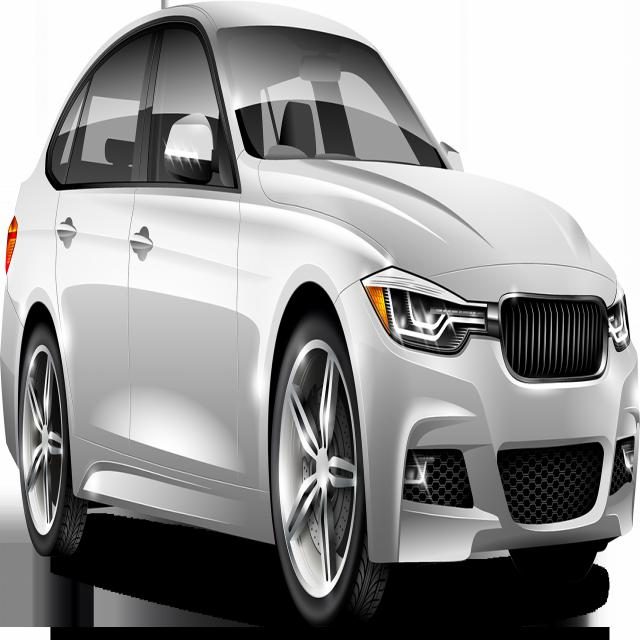yolov7-seg-car: (0, 1, 640, 628)
